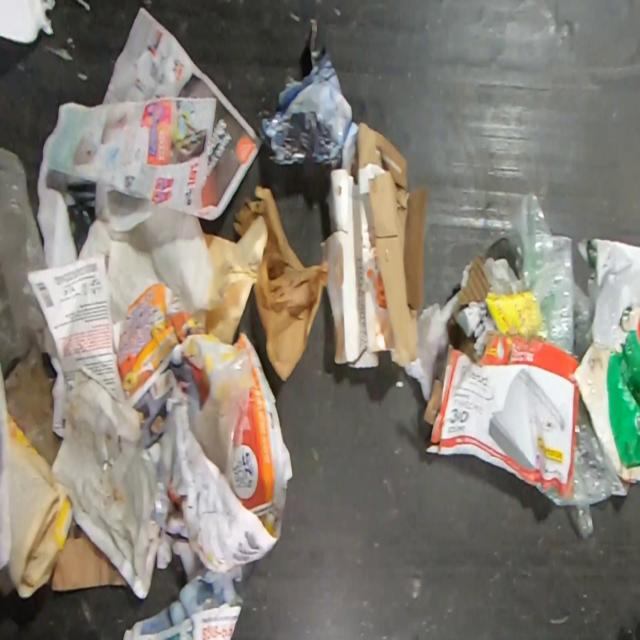cardboard: (423, 331, 580, 507), (320, 120, 429, 368), (446, 252, 531, 364), (45, 520, 132, 593)
soft_plastic: (568, 236, 640, 484), (503, 188, 595, 360), (0, 144, 48, 378), (188, 343, 255, 487), (570, 396, 630, 540)
